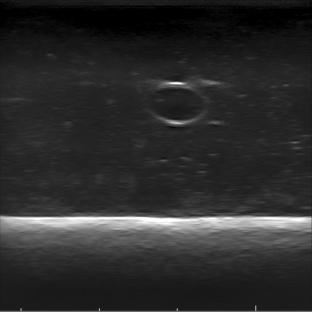vessel: (144, 80, 209, 128)
